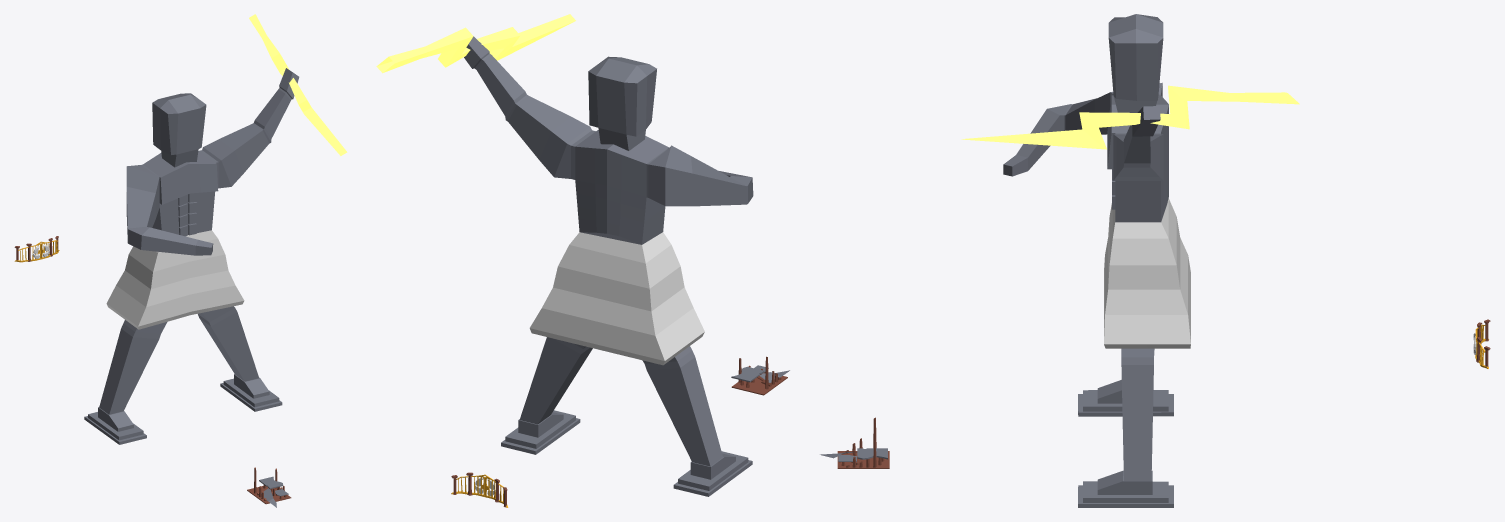
File: Theater_Zeus_Gate.fbx
3 views of the same model, side by side, from view 1: azimuth 30°, elevation 25°; view 2: azimuth 150°, elevation 25°; view 3: azimuth 270°, elevation 25° (orthographic). The views are drawn at different scales.
Parts seen in each view (by area): view 1: Zeus, Theater; view 2: Zeus, Theater, Gate; view 3: Zeus, Theater.
Boxes of the visible parts, <box> form: Zeus: <box>84,14,347,444</box>; Theater: <box>247,467,291,507</box>; Zeus: <box>376,14,753,496</box>; Theater: <box>731,356,789,395</box>; Gate: <box>451,472,508,507</box>; Zeus: <box>961,14,1299,507</box>; Theater: <box>820,417,889,468</box>.
Size of the model in its own units: 12899 by 19046 by 25086.
